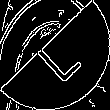L_NW: (27, 26, 83, 84)
